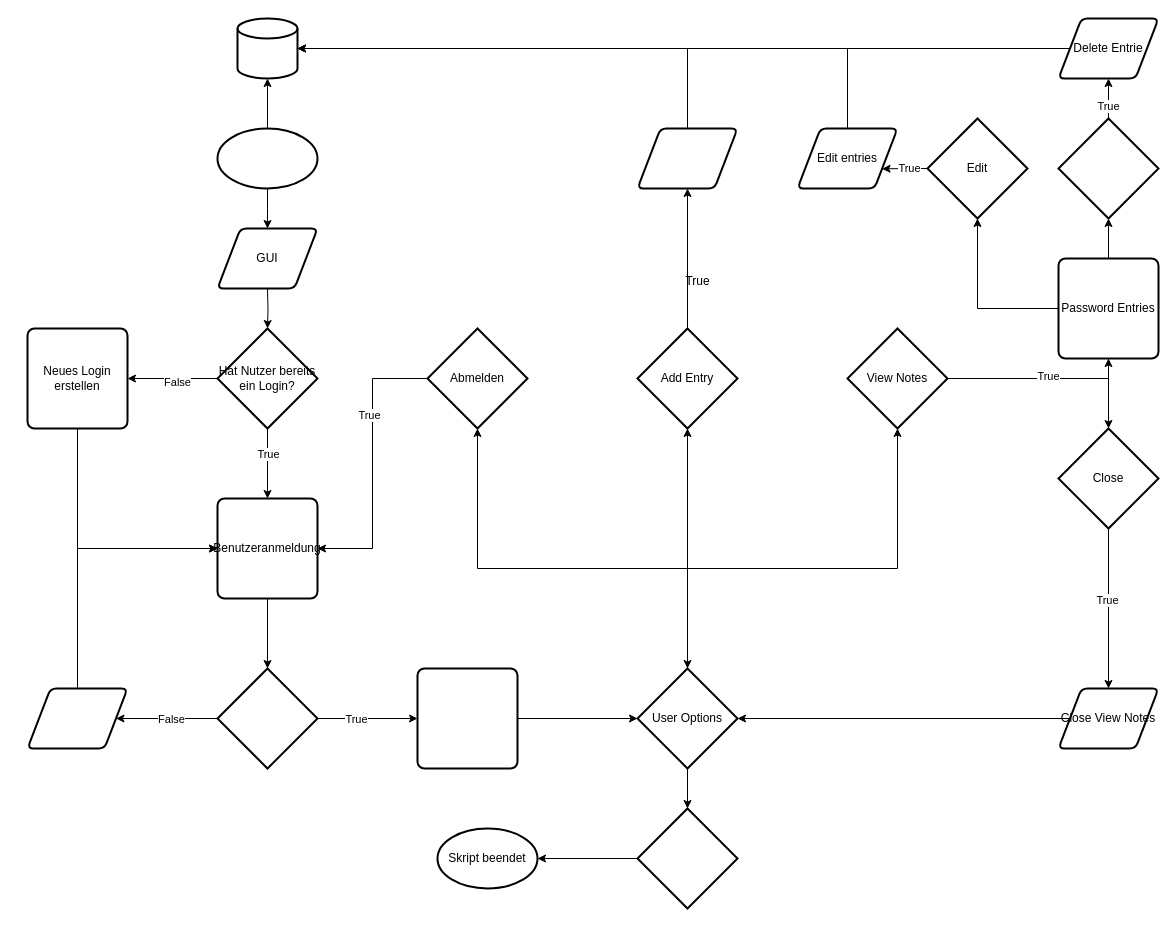
The diagram is 1176 pixels wide and 926 high, and some of its shapes have lost their labels. The centre of each missing label's shape, as x and y in pixels:
Anmeldeinformationen überprüfen: pixel 267 718
Delete: pixel 1108 168
Falsche Anmeldeinformationen: pixel 77 718
Hauptmenü Password Manager: pixel 467 718
Password DB: pixel 267 48
Password hinzufügen: pixel 687 158
Skript wird geschlossen: pixel 687 858
Start: pixel 267 158
